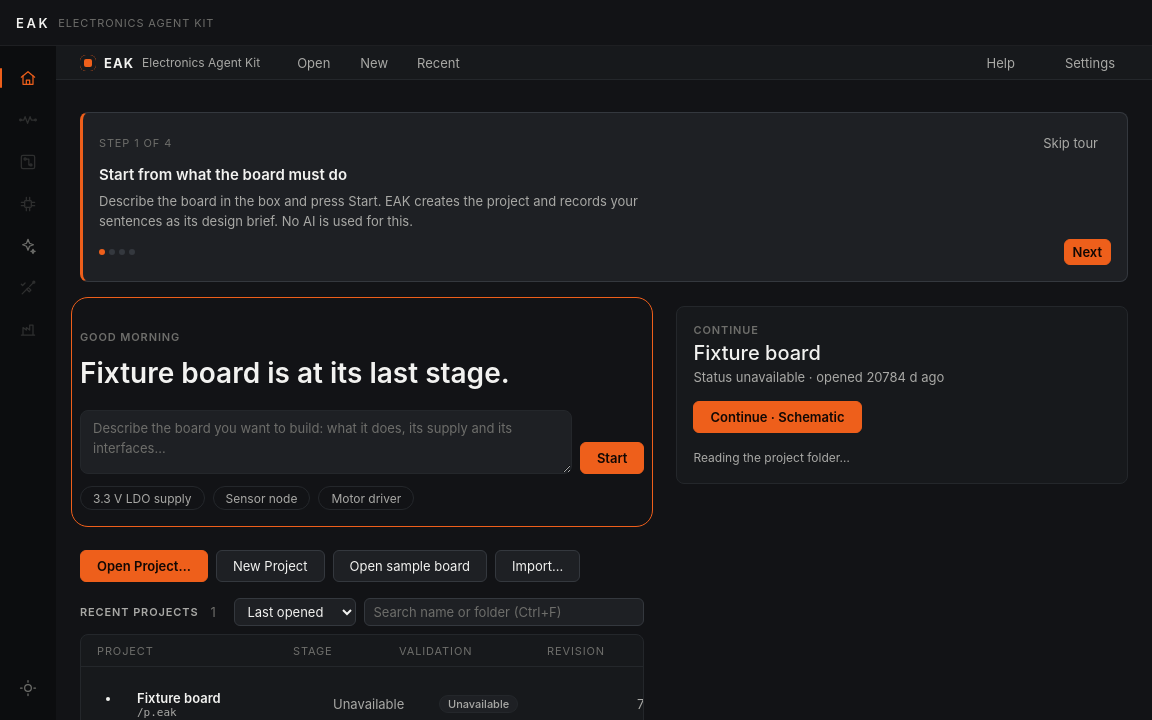
Test: Saved badge and document marker (F5, A-SAVE) › say Writing while a command is in flight, only on the document that issued it, then Saved
Later steps or results of the test are not shown.
Click the text "Fixture board" below "Validation" at (179, 698), box 137,690 -> 221,706
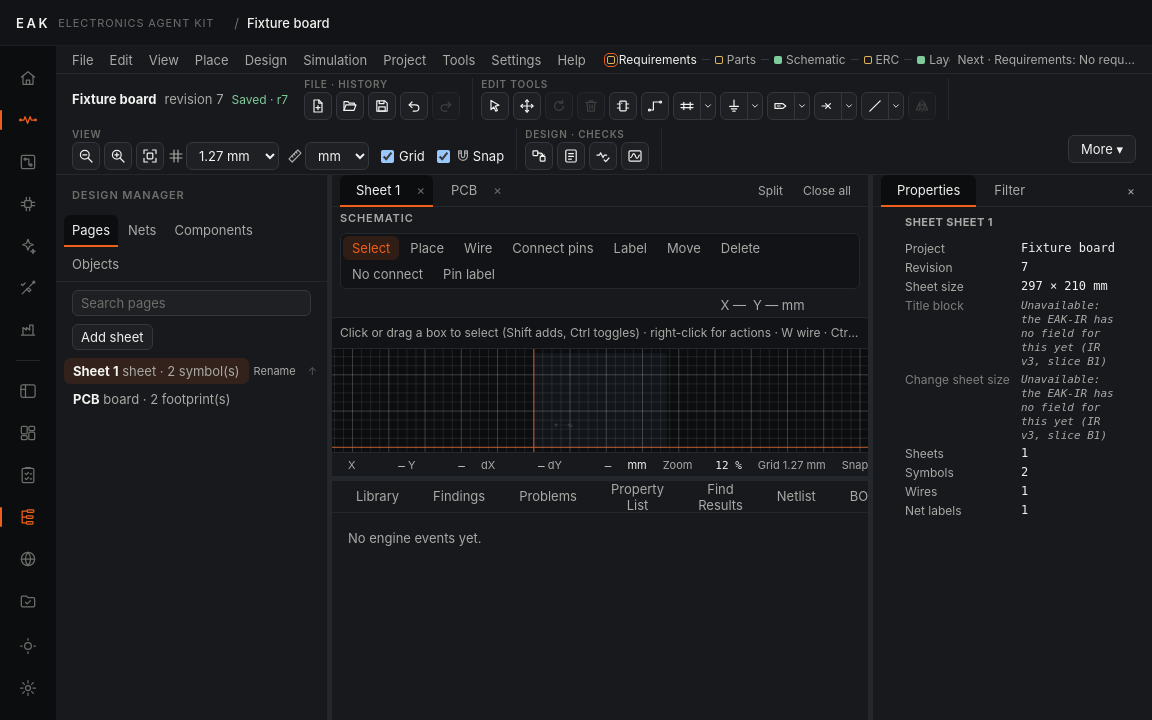
Now the text with class "saved" reads "Saved · r7", box 232,92 -> 288,107
Click the button "Design" at (266, 60), box 237,48 -> 295,72
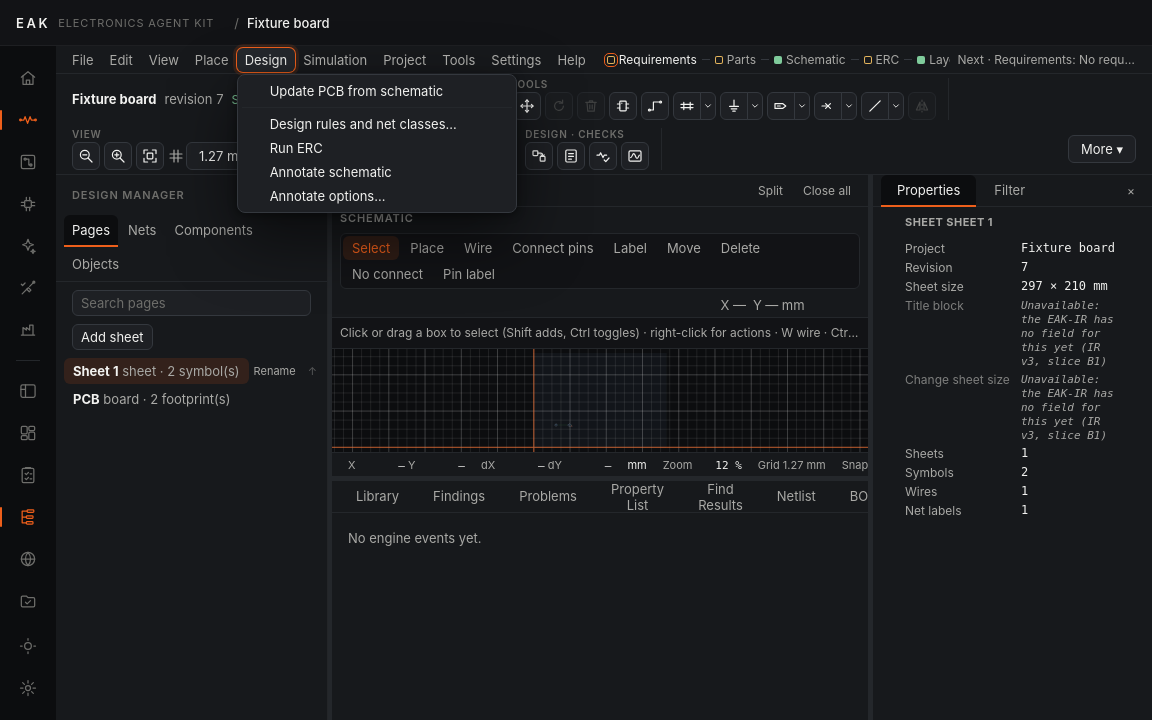
Click the menu item "Annotate schematic" at (377, 172), box 242,160 -> 512,184
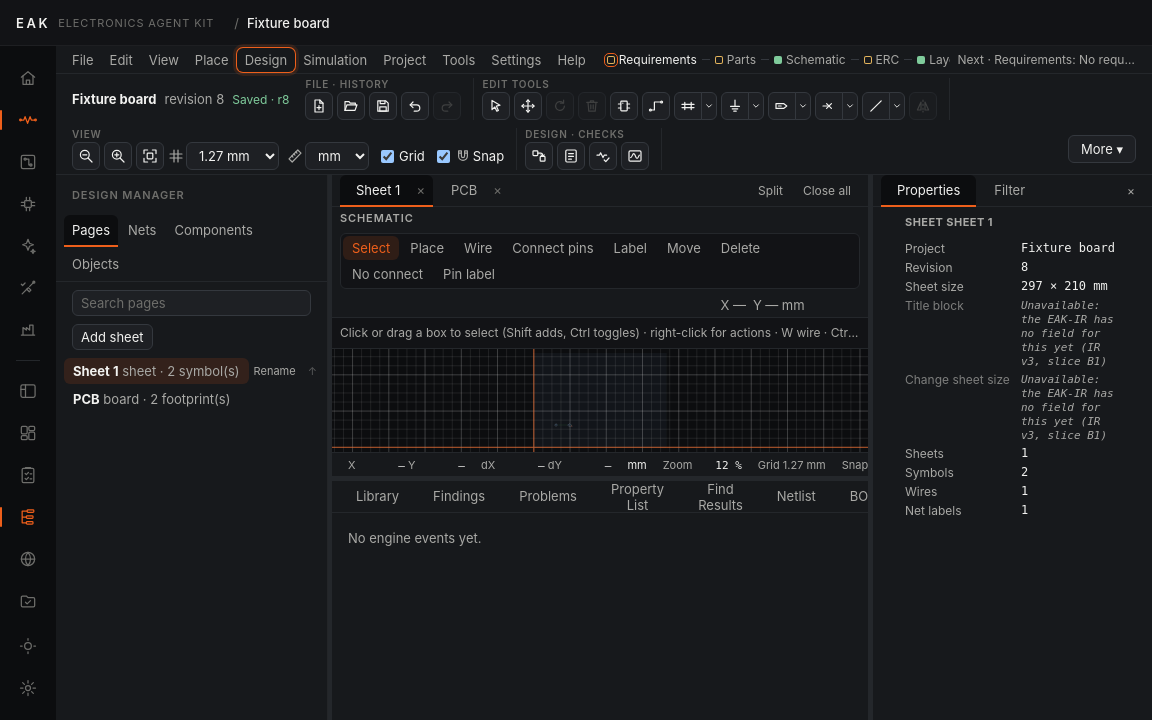
Now the text with class "saved" reads "Saved · r8", box 232,92 -> 290,107
